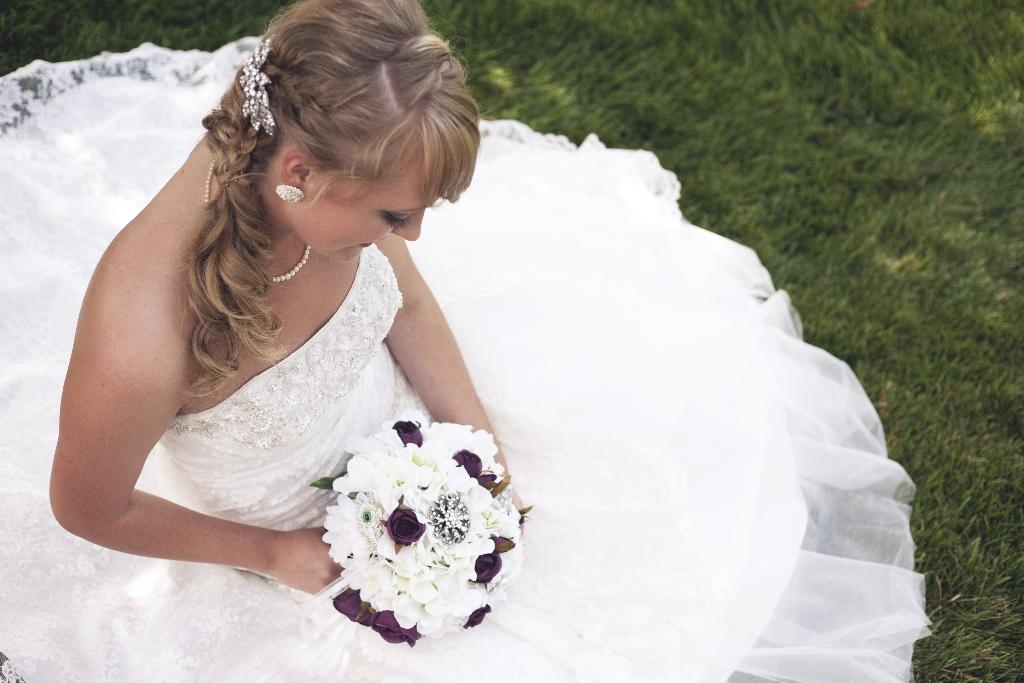Human_hand: (275, 522, 341, 591), (508, 487, 525, 532)
